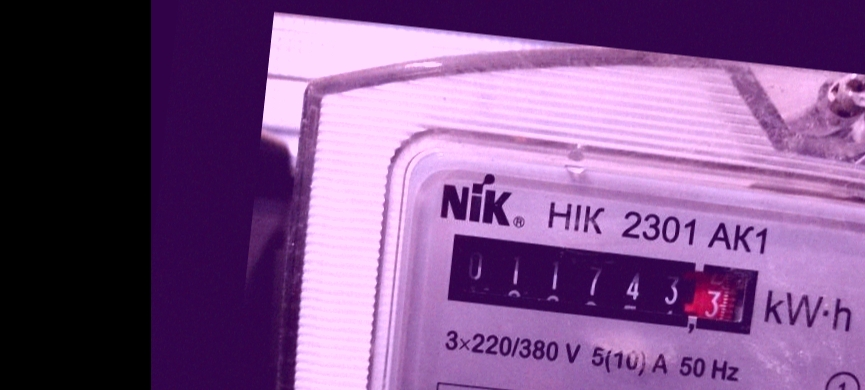0: (464, 245, 487, 283)
1: (547, 255, 565, 290), (510, 251, 523, 285)
3: (660, 270, 682, 306), (702, 286, 724, 321)
4: (623, 266, 643, 301)
7: (584, 261, 606, 296)
screen: (431, 219, 773, 348)
